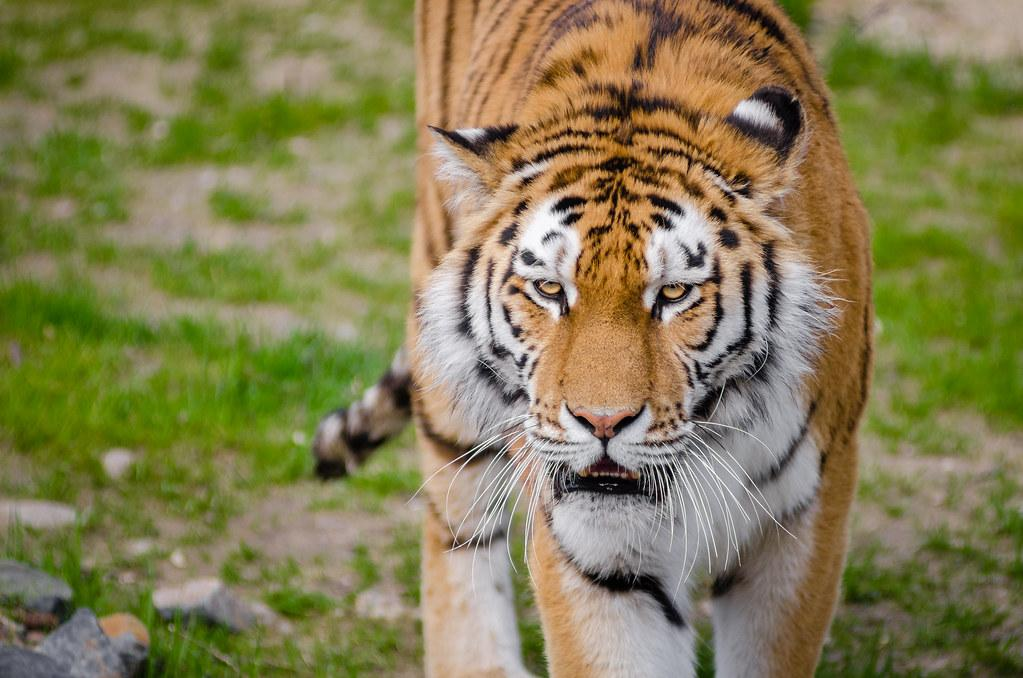tiger: (311, 1, 877, 677)
